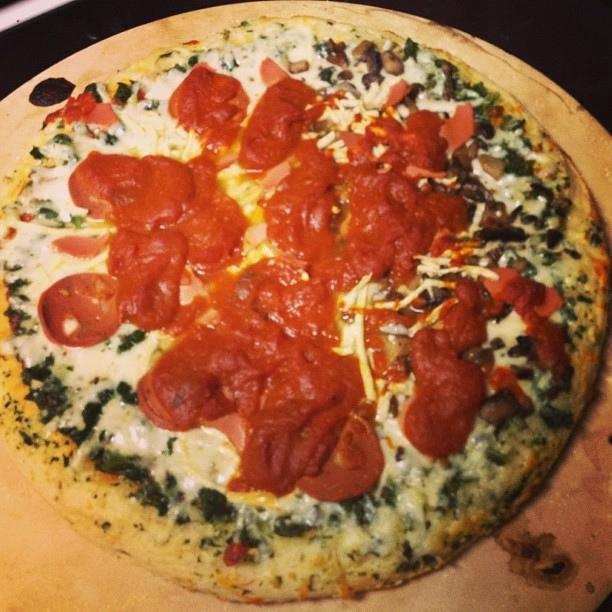mushroom: (473, 202, 530, 250), (478, 390, 520, 426), (546, 196, 574, 248), (457, 343, 495, 376), (434, 59, 458, 100), (362, 50, 386, 90), (316, 80, 362, 100), (393, 83, 426, 110), (476, 155, 504, 180), (380, 50, 405, 76), (444, 159, 468, 184), (352, 40, 376, 62), (475, 120, 496, 138), (289, 60, 309, 74)
